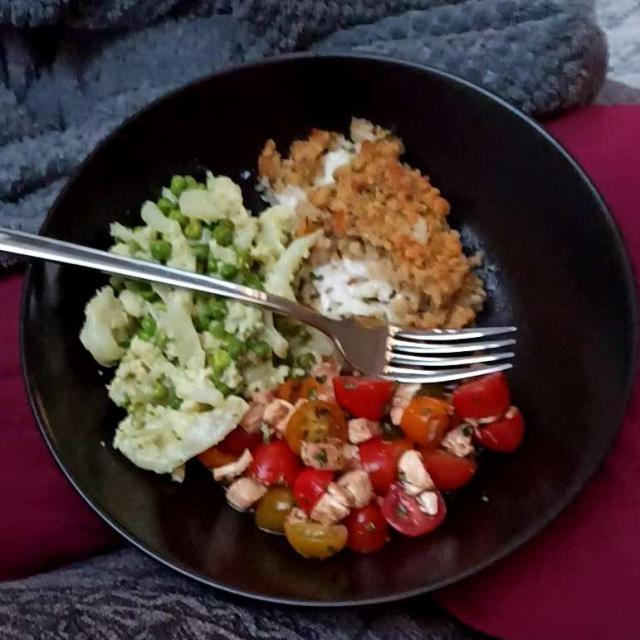cauliflower: (88, 180, 280, 456)
salad: (202, 366, 519, 560)
